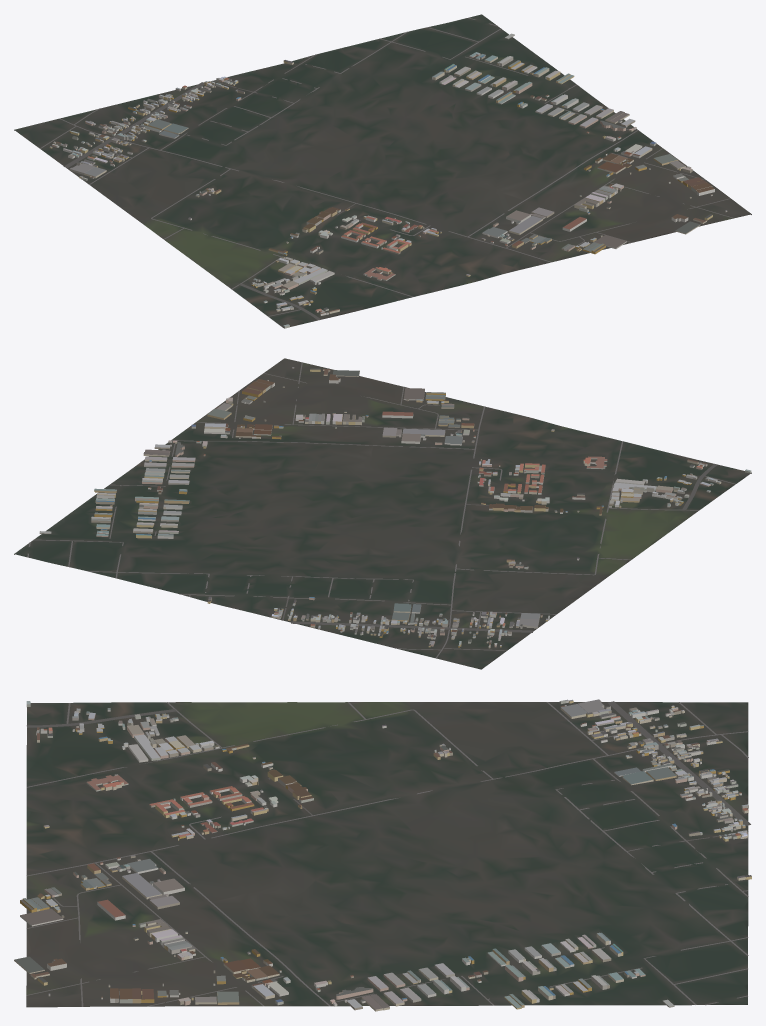
3 renders of one model, top to bottom at view 1: azimuth 30°, elevation 25°; view 2: azimuth 150°, elevation 25°; view 3: azimuth 270°, elevation 25°, orthographic. The views are drawn at different scales.
Parts seen in each view (by area): view 1: ground, buildings, roads; view 2: ground, buildings, roads; view 3: ground, buildings, roads.
Part boxes in pixels (left/top/right/bottom): ground: left=14, top=14, right=751, bottom=328; buildings: left=49, top=33, right=727, bottom=328; roads: left=40, top=17, right=734, bottom=320; ground: left=14, top=358, right=751, bottom=669; buildings: left=39, top=367, right=751, bottom=648; roads: left=27, top=362, right=735, bottom=658; ground: left=26, top=702, right=748, bottom=1007; buildings: left=14, top=699, right=751, bottom=1011; roads: left=26, top=701, right=750, bottom=1006.
Size of the model in its own units: 1426 by 20.79 by 1432.
